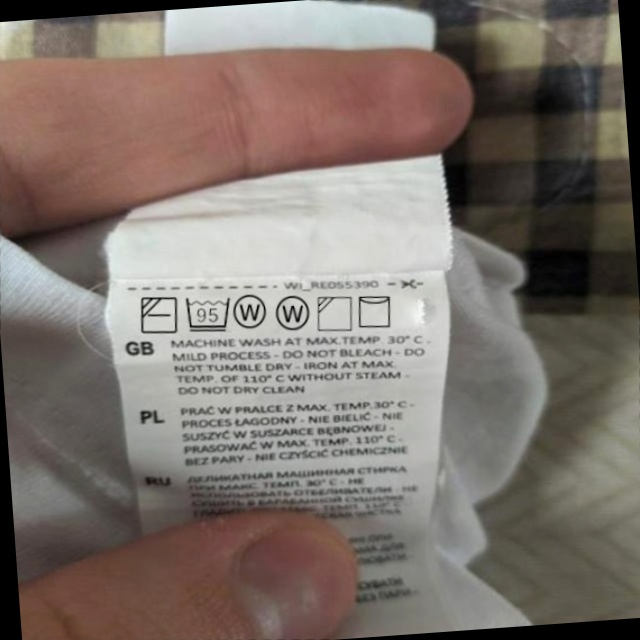95C: (181, 291, 235, 336)
dry_flat_in_shade: (136, 291, 181, 338)
line_dry: (353, 289, 398, 332)
shade_dry: (313, 291, 357, 336)
wet_clean: (272, 292, 314, 336), (231, 288, 272, 333)
